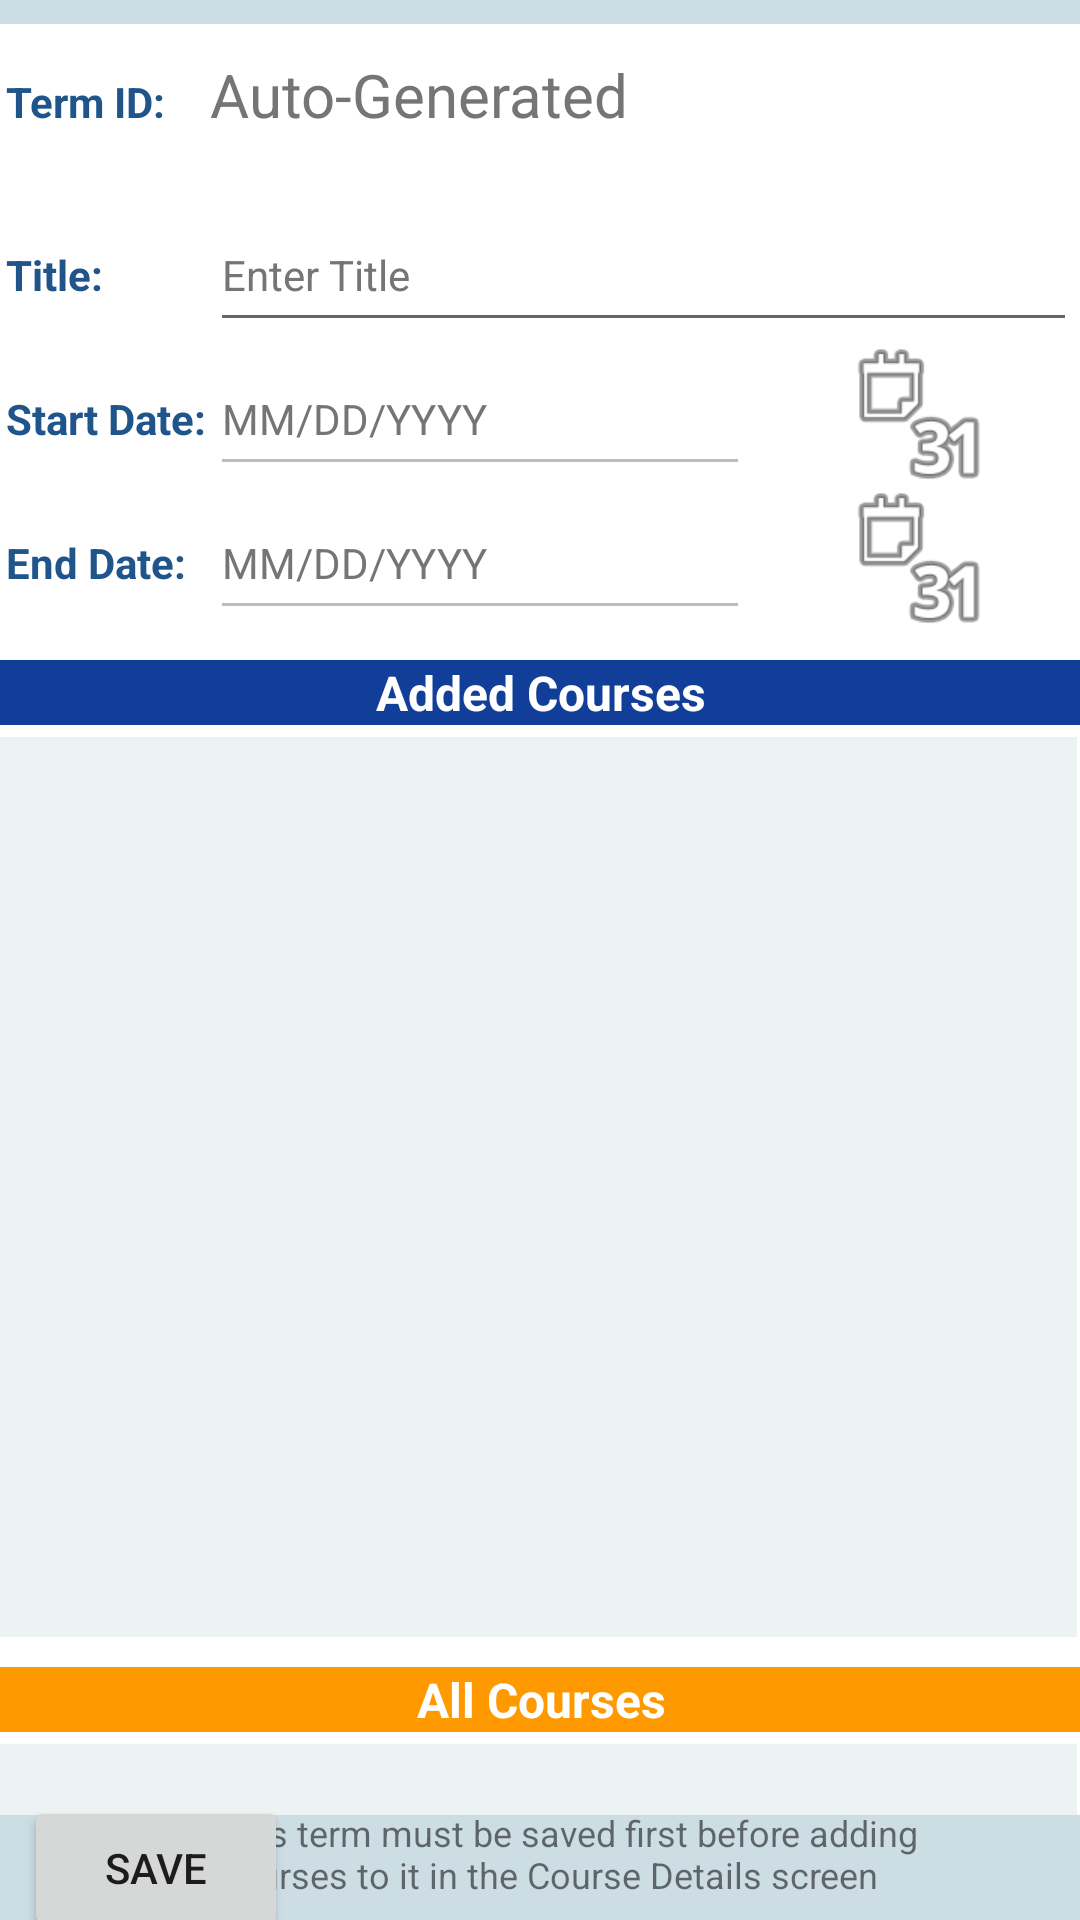

Locate icon controls on the screen. Image size 1080×1920, boxes as (x1, y1, x2, y2).
month: (858, 349, 980, 479), (858, 493, 980, 623)
